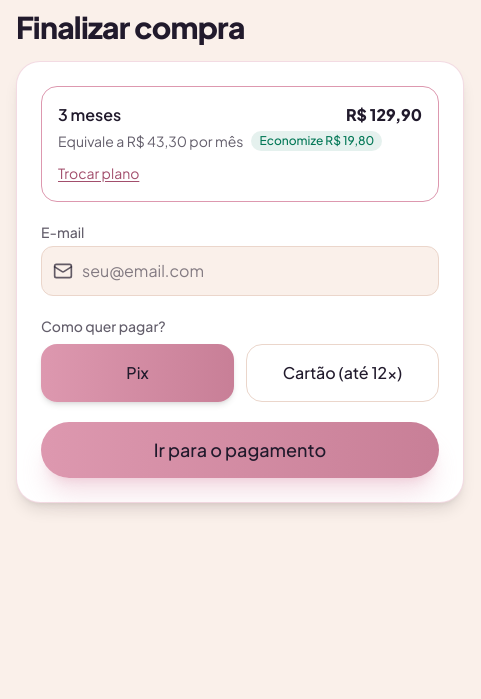
Checkout › "Trocar plano" abre as 4 opções, sem o plano teste
Click the button "Trocar plano" at [99, 173], box [58,163,139,183]
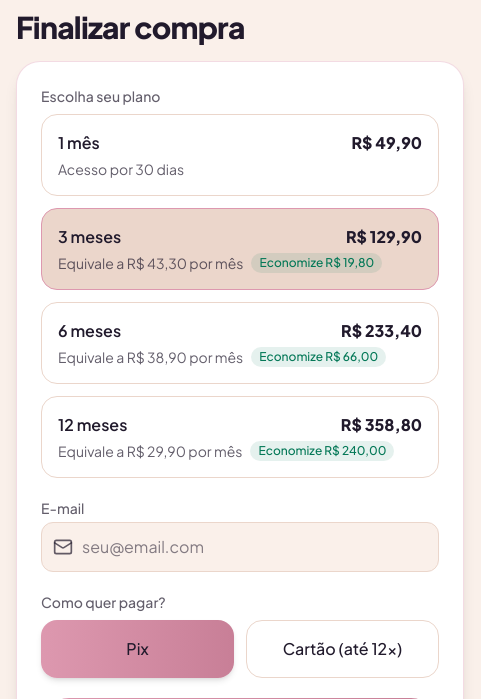
Result: the number of radio buttons labelled "1 mês R$ 49,90 Acesso por 30 dias" is 4 at [41,114,439,196]; [41,208,439,290]; [41,302,439,384]; [41,396,439,478]
